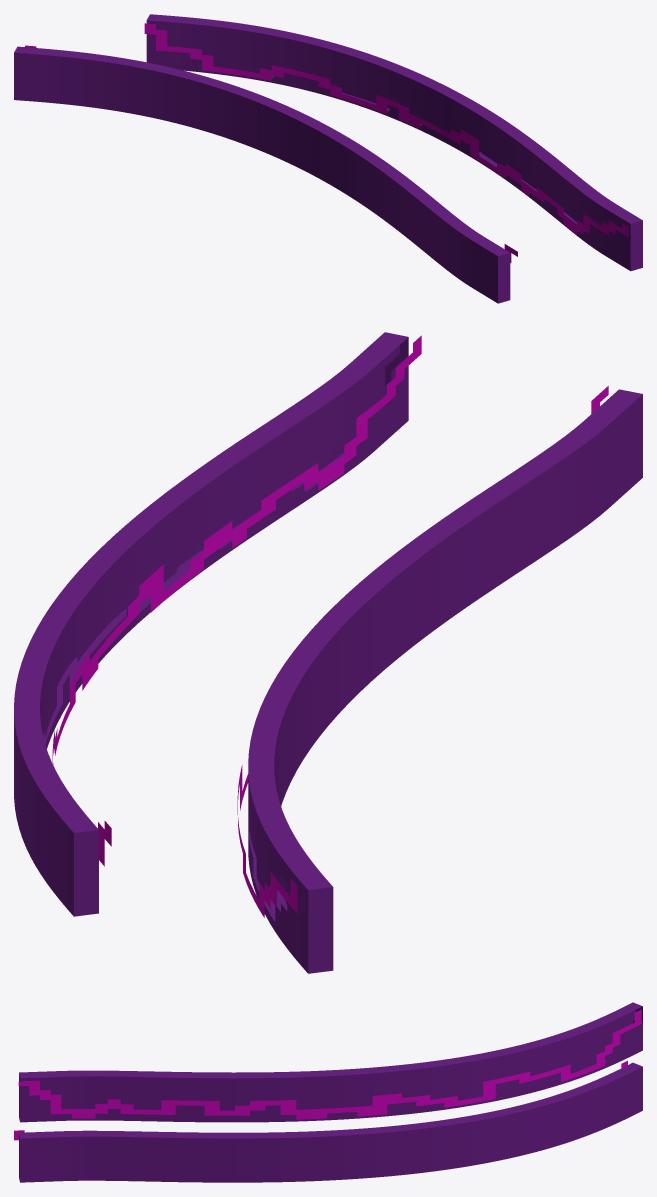
File: BentSideWallPink.fbx
The picture shows the model from 3 angles, top to bottom: view 1: azimuth 30°, elevation 25°; view 2: azimuth 150°, elevation 25°; view 3: azimuth 270°, elevation 25°; orthographic projection. The views are drawn at different scales.
Visible parts, largest first — view 1: LeftPink.001, LeftPink, PinkPanel1; view 2: LeftPink.001, LeftPink, PinkPanel1, PinkPanel2; view 3: LeftPink, LeftPink.001, PinkPanel2.
Boxes of the visible parts, x1,y1,x2,y2 form: LeftPink.001: [14, 46, 510, 303]; LeftPink: [146, 14, 642, 271]; PinkPanel1: [144, 23, 628, 237]; LeftPink.001: [248, 389, 642, 973]; LeftPink: [14, 332, 408, 916]; PinkPanel1: [52, 335, 421, 866]; PinkPanel2: [237, 386, 608, 917]; LeftPink: [19, 1062, 642, 1182]; LeftPink.001: [19, 1002, 642, 1122]; PinkPanel2: [18, 1009, 641, 1119].
Size of the model in its own units: 1326 by 200 by 2586.
